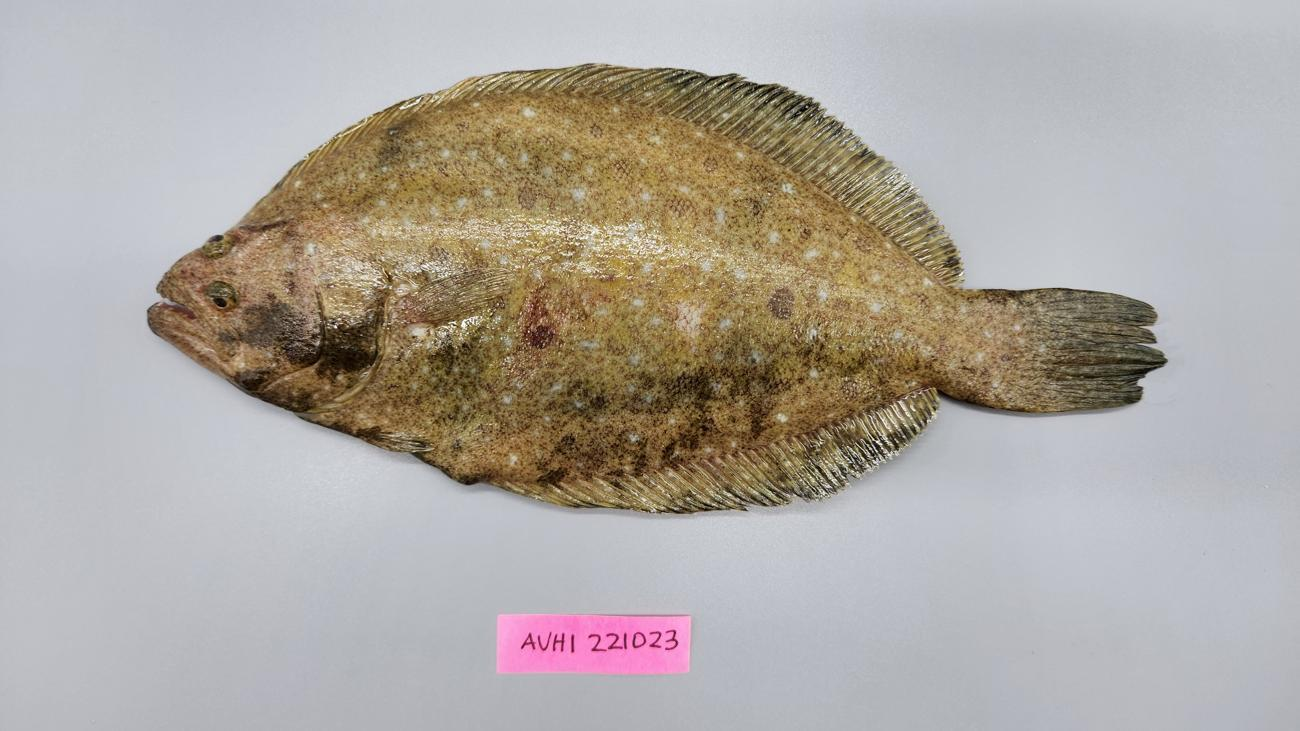VIDYH: (513, 274, 621, 382)
VIFAH: (669, 420, 877, 510)
VIFCH: (1055, 348, 1169, 367)
VIOUY: (143, 59, 1167, 513)
